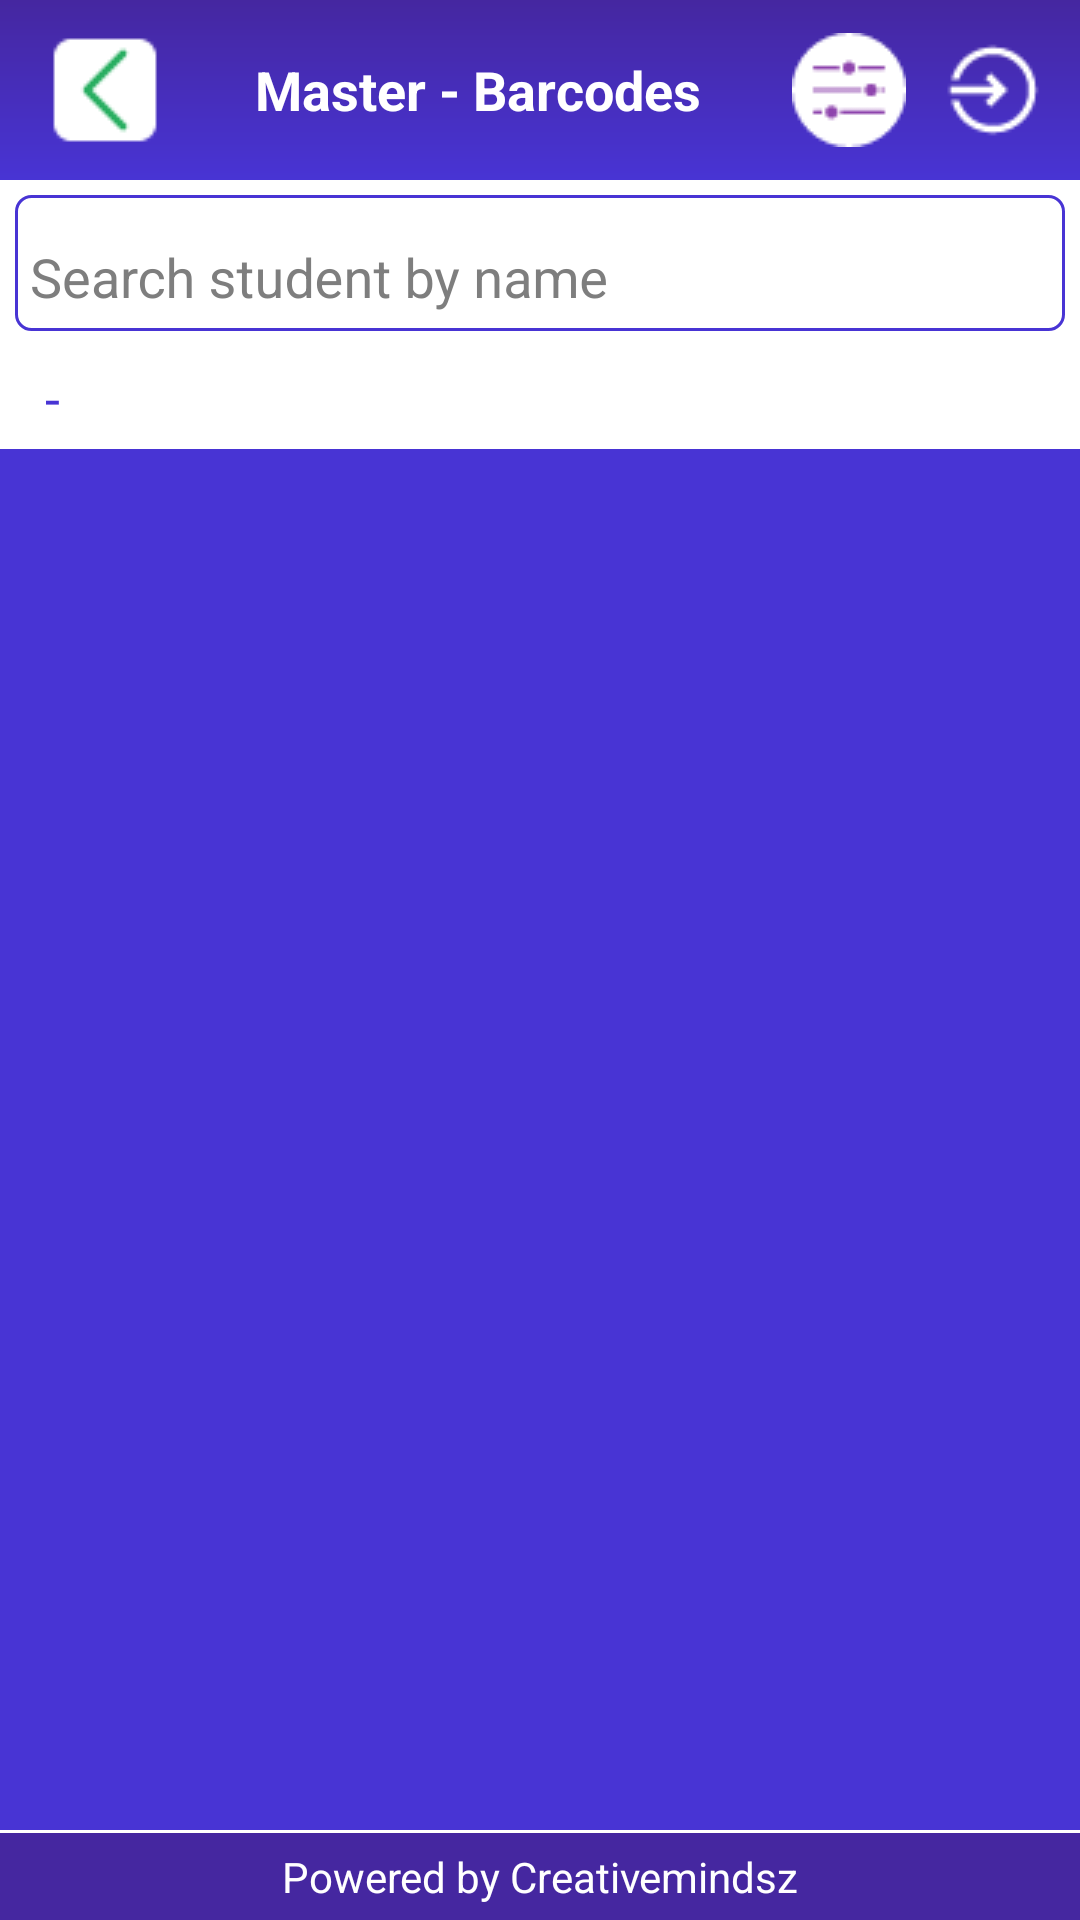

Screen size 1080x1920. Icon name, then its center in pixels as (x=x, y=y):
back: (x=105, y=92)
exit: (x=993, y=96)
options: (x=849, y=90)
